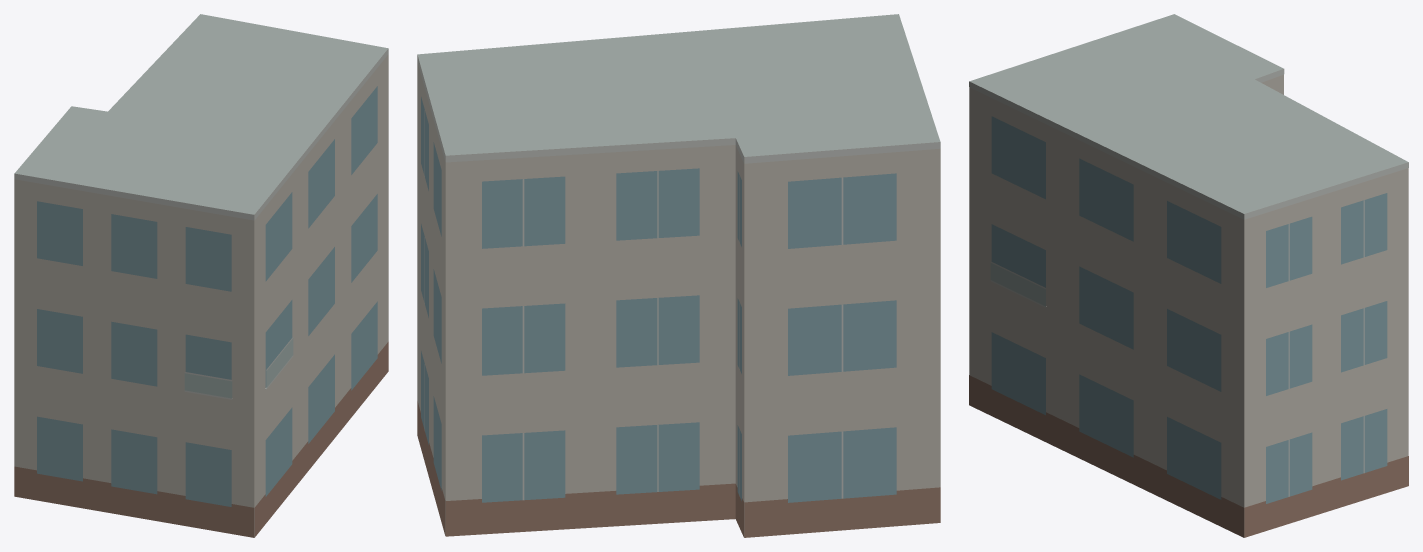
File: survey-upis-33002531.glb
3 views of the same model, side by side, from view 1: azimuth 30°, elevation 25°; view 2: azimuth 150°, elevation 25°; view 3: azimuth 270°, elevation 25° (orthographic). The views are drawn at different scales.
Visible parts, largest first — view 1: survey-upis-33002531.tmp; view 2: survey-upis-33002531.tmp; view 3: survey-upis-33002531.tmp.
Boxes of the visible parts, left/top/right/bottom form: survey-upis-33002531.tmp: left=14, top=14, right=388, bottom=537; survey-upis-33002531.tmp: left=417, top=14, right=940, bottom=537; survey-upis-33002531.tmp: left=969, top=14, right=1408, bottom=537.
Bounding box in the file's own units: 18.16 × 13.7 × 16.86.
